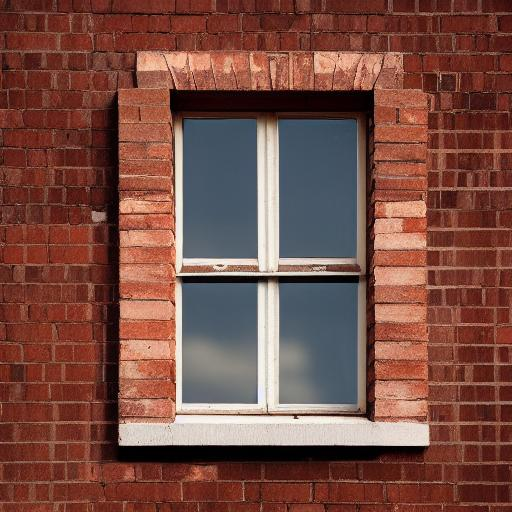Window: (120, 50, 432, 451)
